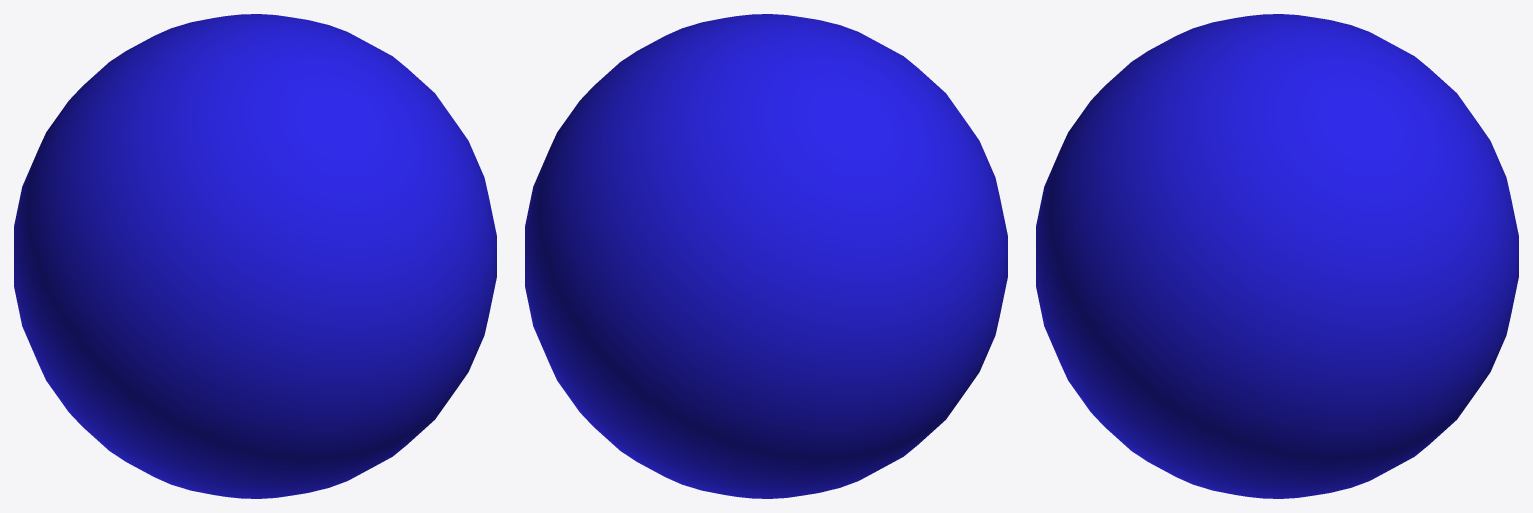
The picture shows the model from 3 angles, left to right: view 1: azimuth 30°, elevation 25°; view 2: azimuth 150°, elevation 25°; view 3: azimuth 270°, elevation 25°; orthographic projection.
Parts seen in each view (by area): view 1: Sphere; view 2: Sphere; view 3: Sphere.
Part boxes in pixels (x1=…): Sphere: x1=14, y1=14, x2=496, y2=498; Sphere: x1=525, y1=14, x2=1007, y2=498; Sphere: x1=1036, y1=14, x2=1518, y2=498.
Bounding box in the file's own units: 199 × 200 × 199.
